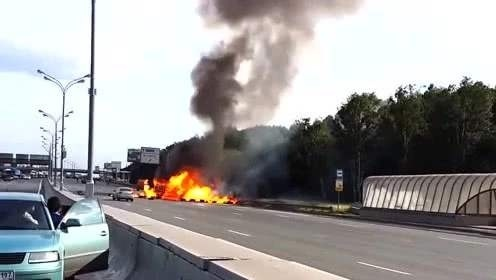fire: (133, 166, 241, 205)
